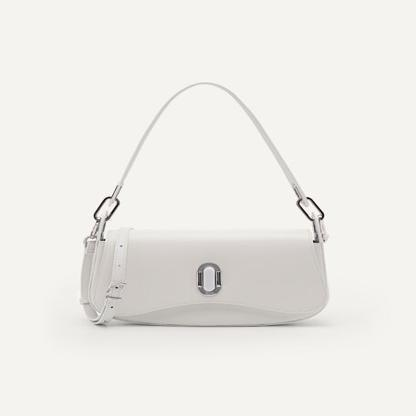not trash: (79, 80, 331, 322)
